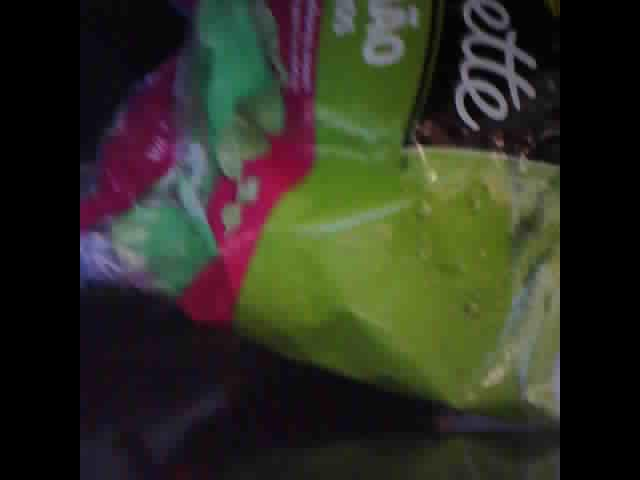florette: (78, 2, 561, 436)
